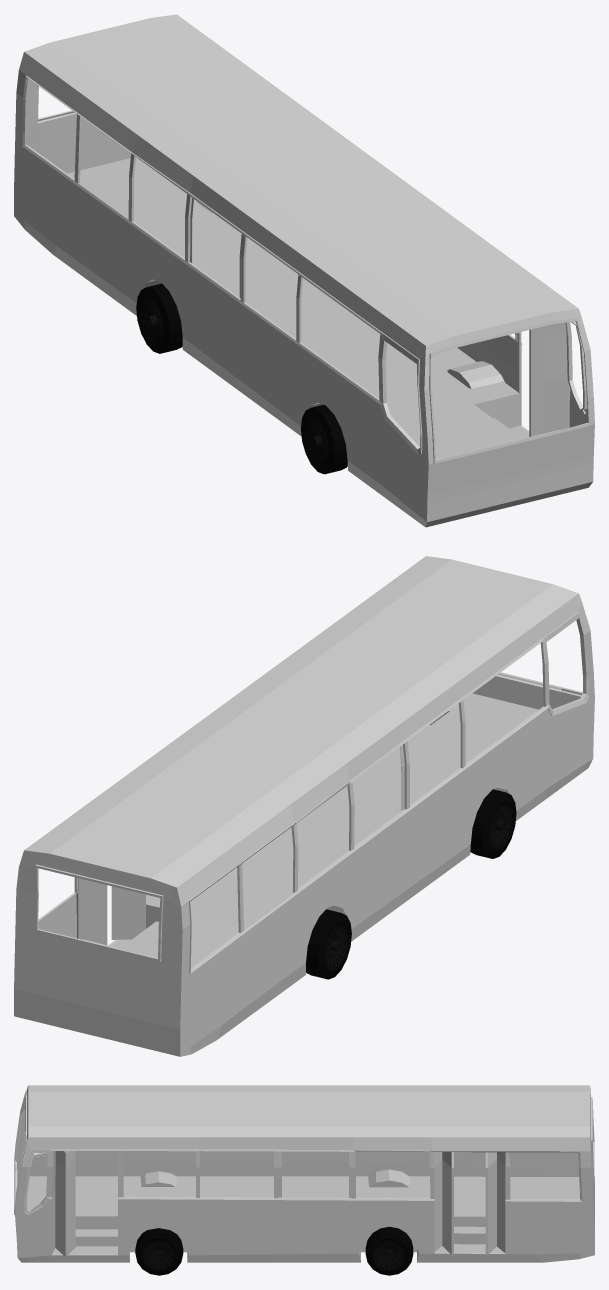
File: ONIBUS.fbx
The picture shows the model from 3 angles, top to bottom: view 1: azimuth 30°, elevation 25°; view 2: azimuth 150°, elevation 25°; view 3: azimuth 270°, elevation 25°; orthographic projection. The views are drawn at different scales.
Visible parts, largest first — view 1: Onibus, Roda; view 2: Onibus, Roda; view 3: Onibus, Roda.
Part boxes in pixels (<box>): Onibus: <box>14,14,594,527</box>; Roda: <box>136,283,347,474</box>; Onibus: <box>14,556,594,1056</box>; Roda: <box>306,789,516,979</box>; Onibus: <box>14,1085,594,1262</box>; Roda: <box>135,1226,413,1275</box>.
Bounding box in the file's own units: 393 × 385 × 1496.
